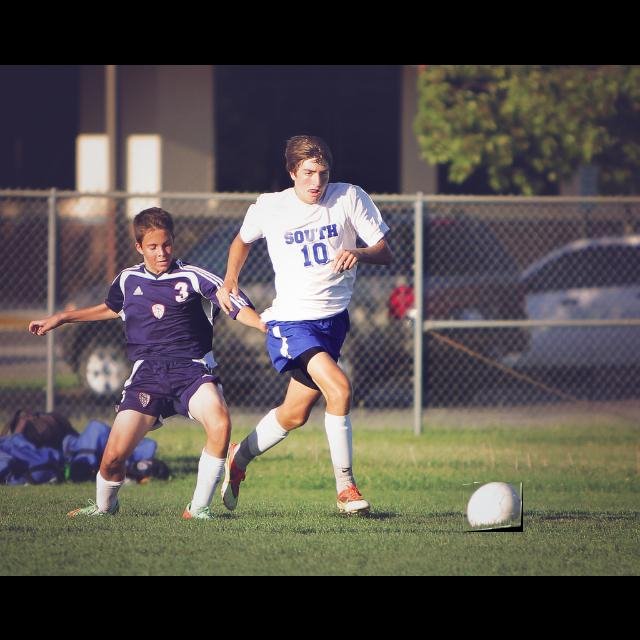Football: (463, 482, 523, 532)
